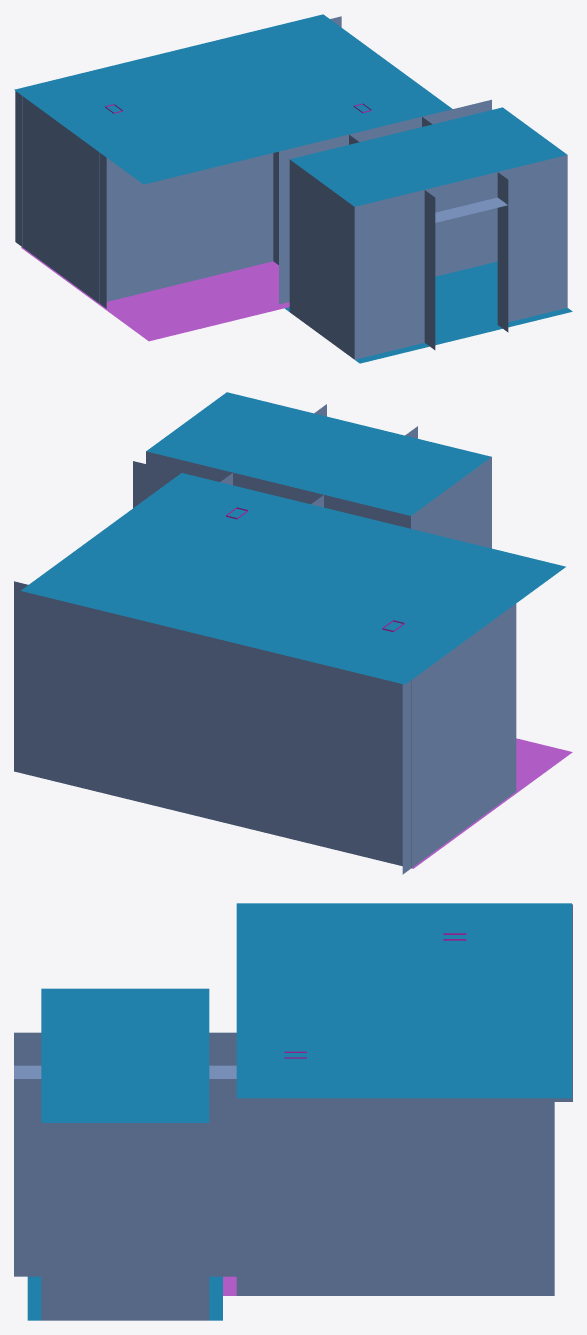
The model's file is Cont1_330.fbx.
The picture shows the model from 3 angles, top to bottom: view 1: azimuth 30°, elevation 25°; view 2: azimuth 150°, elevation 25°; view 3: azimuth 270°, elevation 25°; orthographic projection. The views are drawn at different scales.
Visible parts, largest first — view 1: Cont1_330; view 2: Cont1_330; view 3: Cont1_330.
Boxes of the visible parts, x1,y1,x2,y2 form: Cont1_330: (14, 14, 572, 363); Cont1_330: (14, 392, 572, 874); Cont1_330: (14, 903, 572, 1320).
Bounding box in the file's own units: 9.16 × 3.87 × 9.84.
